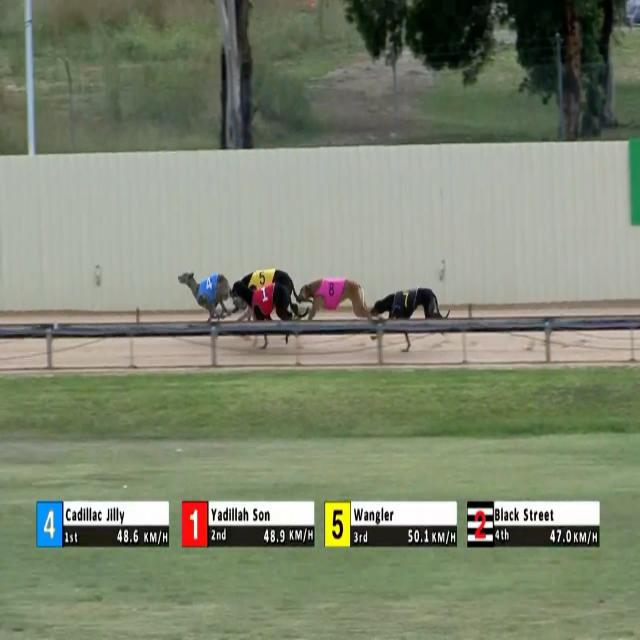dog_eight: (324, 276, 338, 308)
dog_five: (254, 267, 268, 289)
dog_four: (200, 271, 218, 303)
dog_one: (257, 287, 273, 309)
dog_seven: (399, 289, 412, 317)
